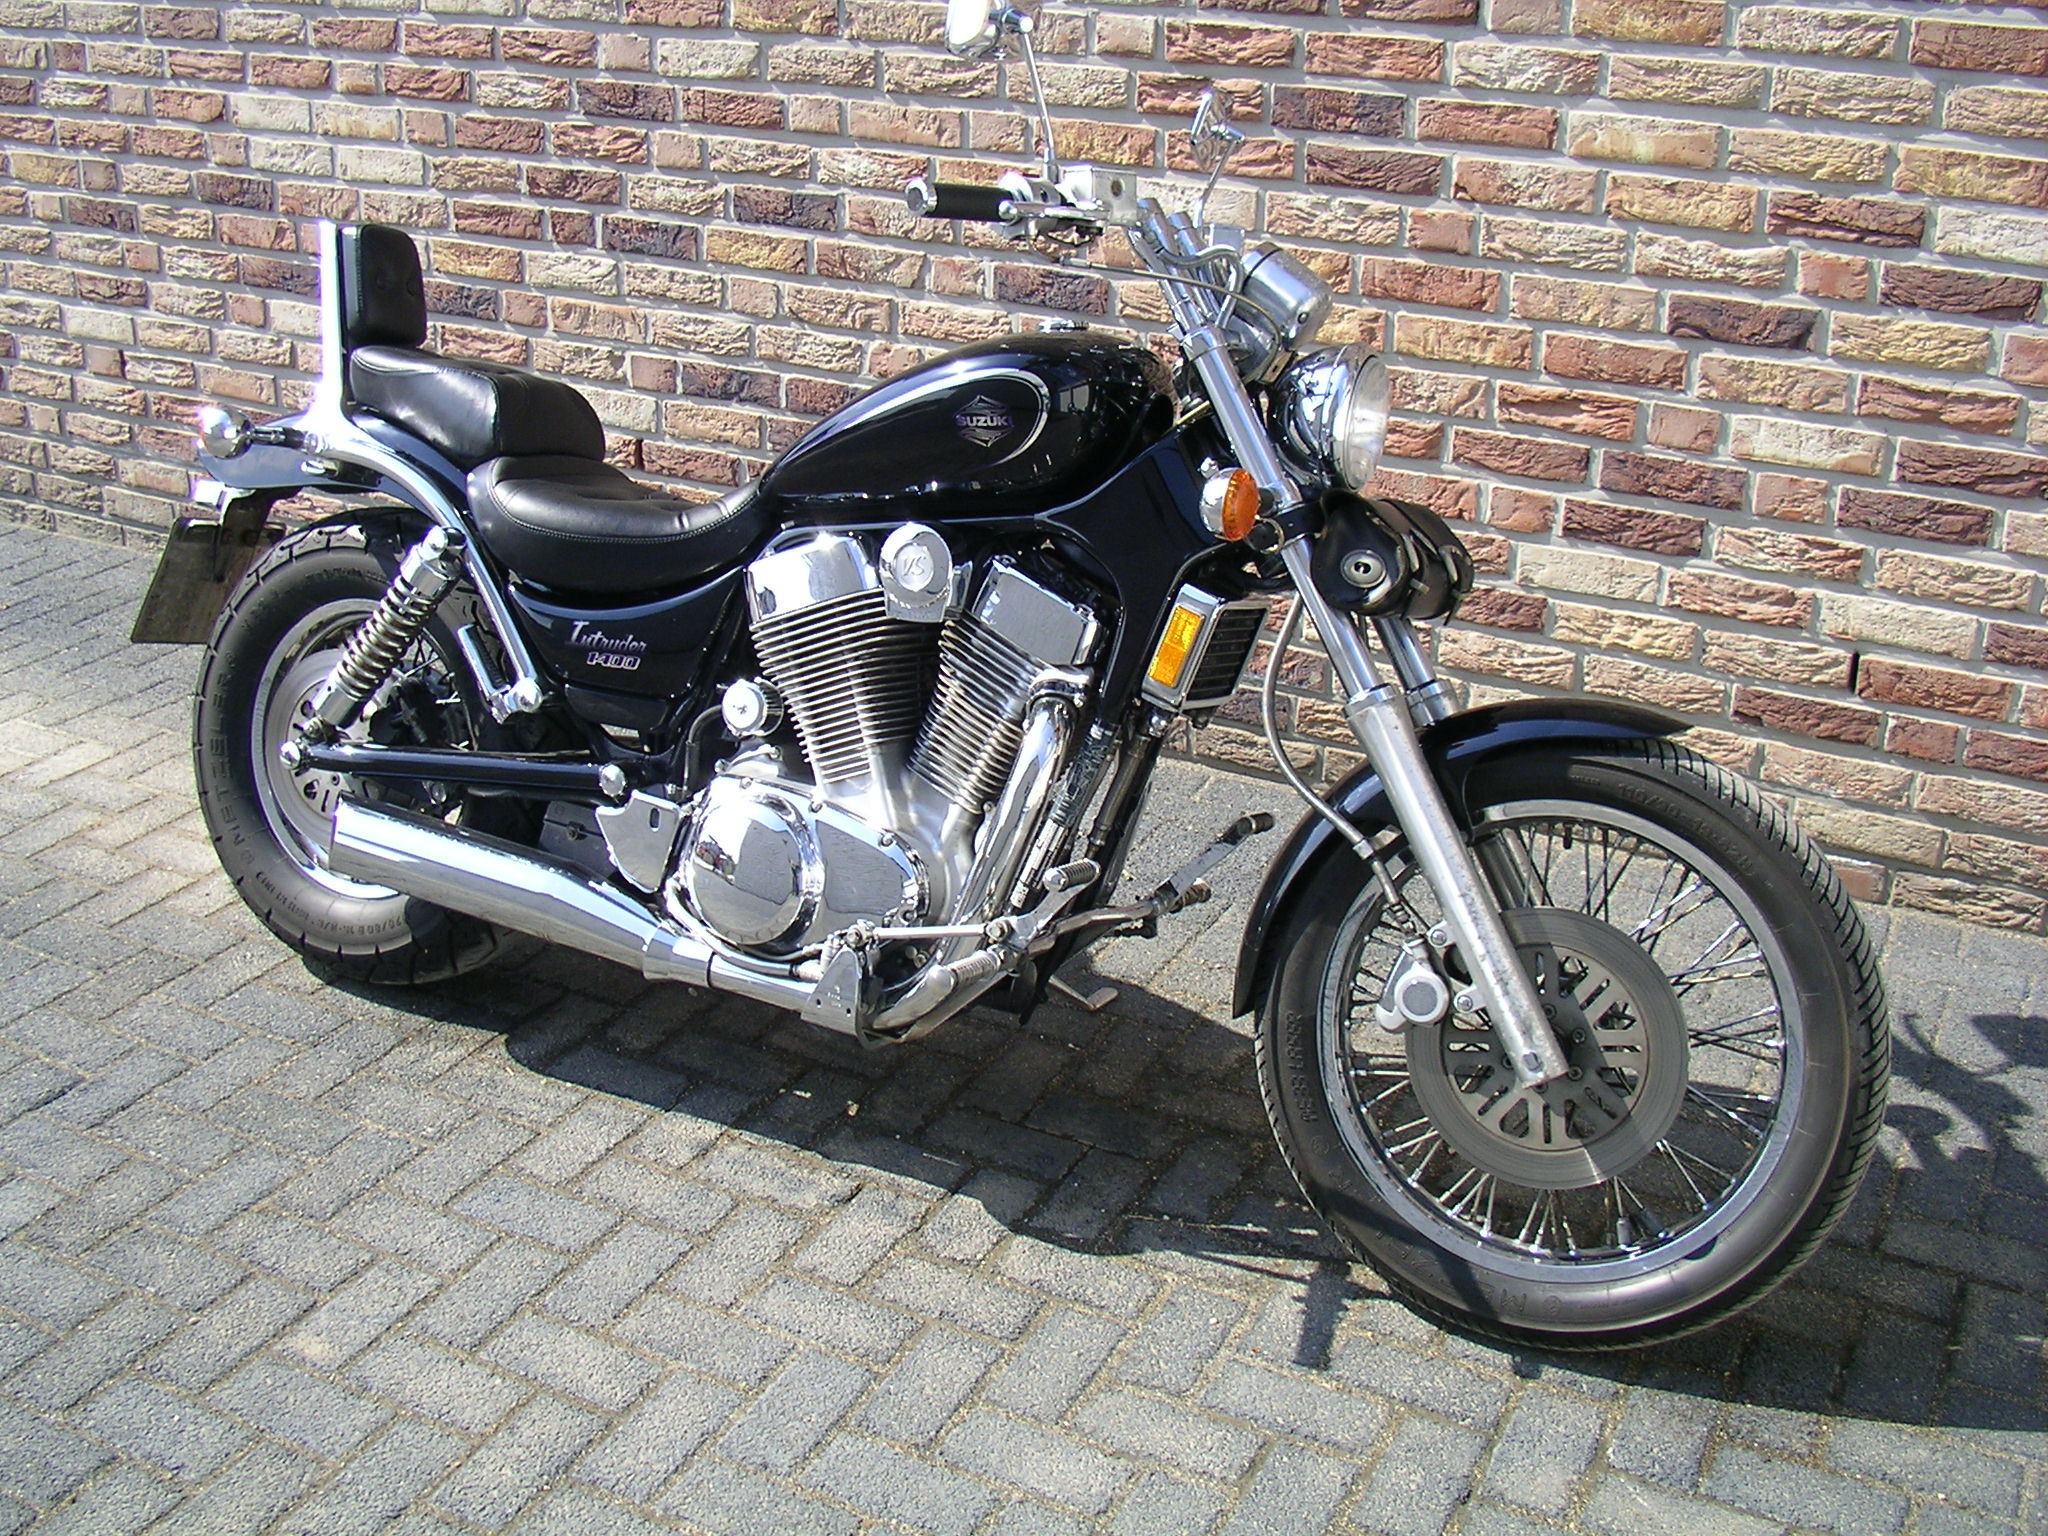motorbike: (127, 11, 1893, 1359)
